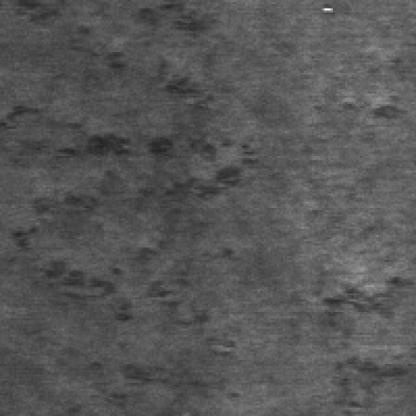rolled-in_scale: (0, 68, 254, 222), (4, 173, 235, 337), (64, 2, 214, 106), (314, 266, 410, 410)
